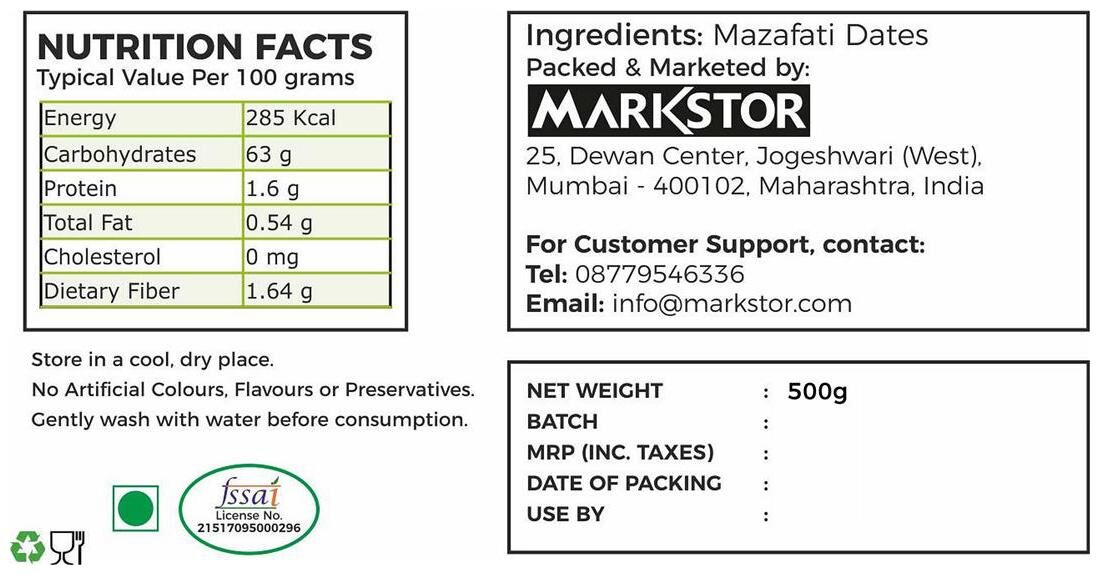fssai: (214, 475, 284, 511)
